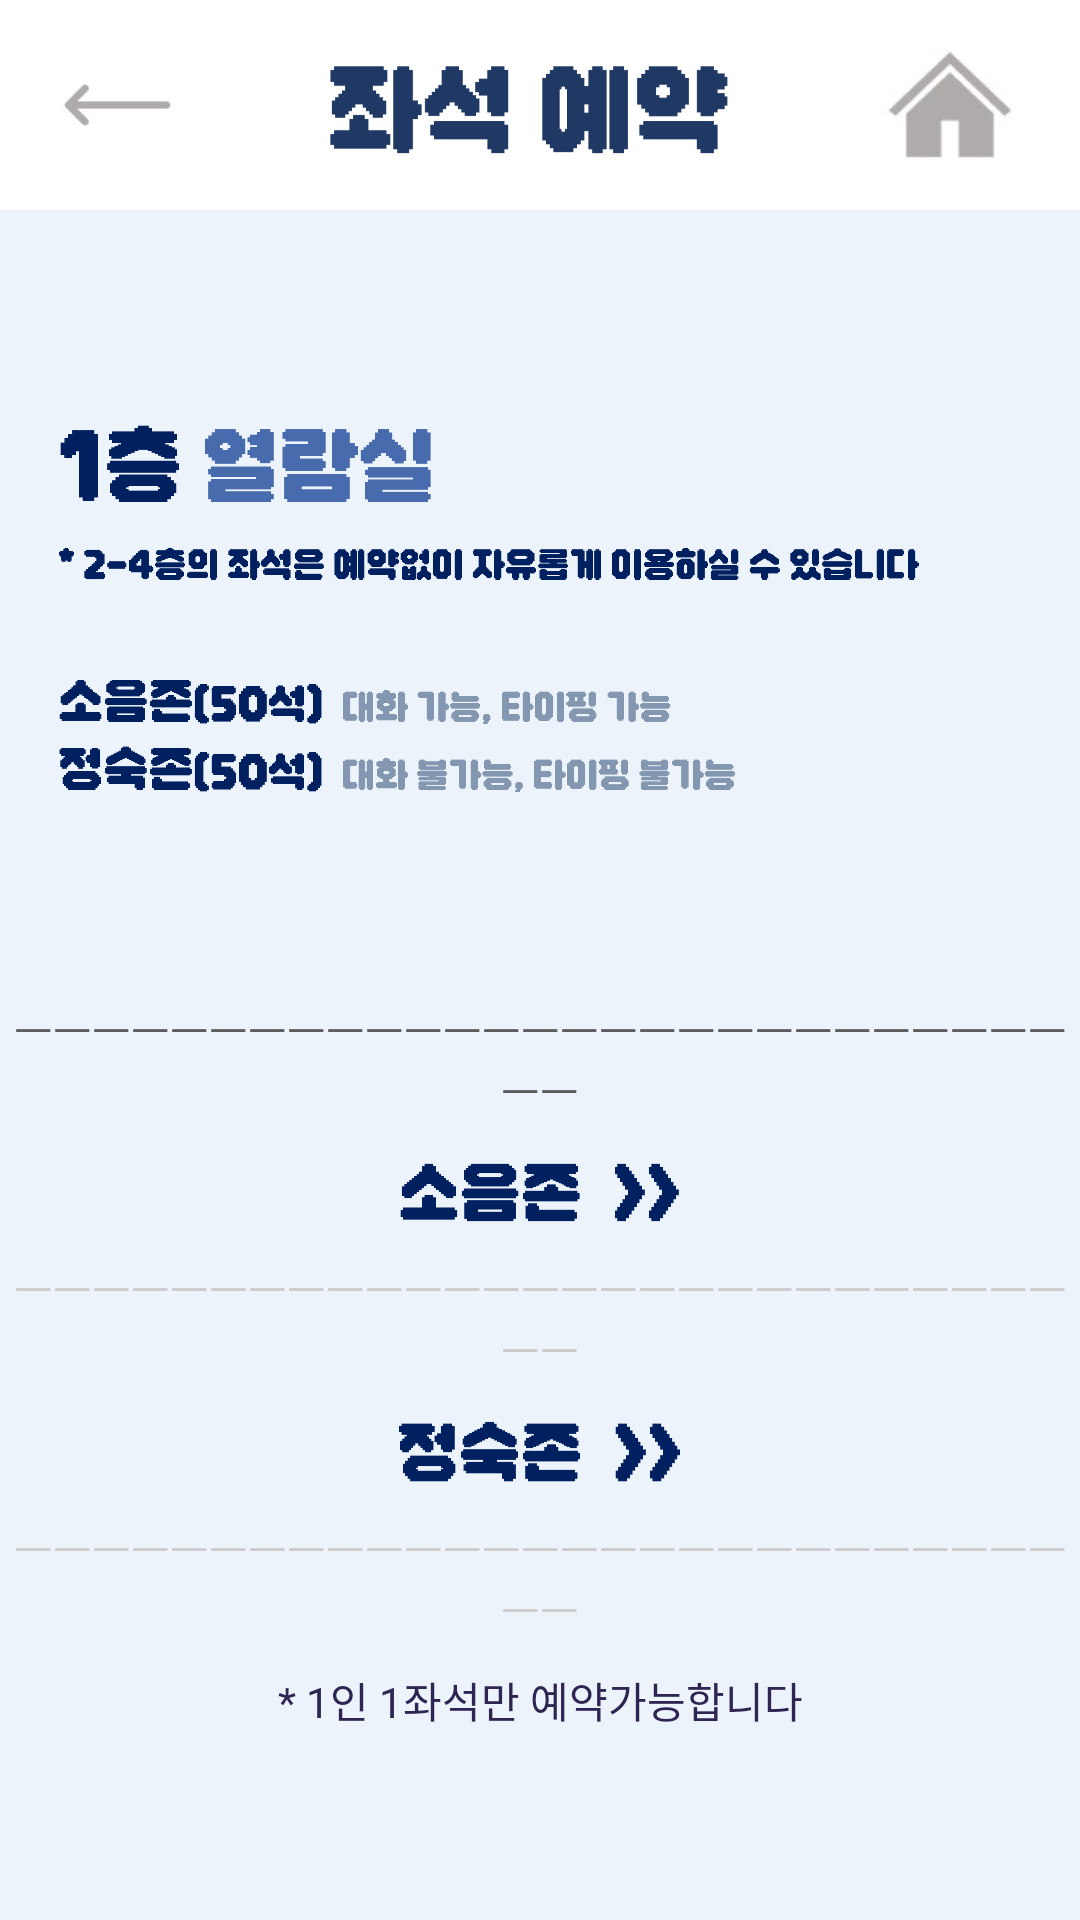

Icon bounding boxes for this 1080x1920 phone screenshot, format (x1, y1, x2, y2):
back: (65, 84, 170, 126)
home: (889, 52, 1011, 157)
